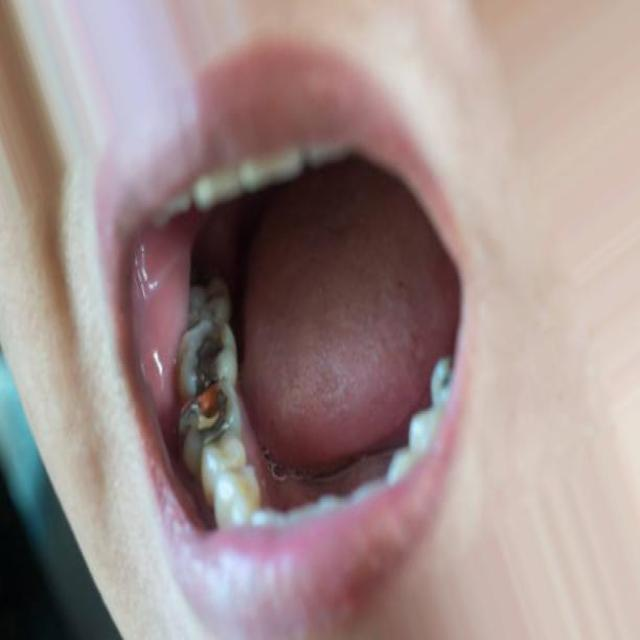caries: (175, 385, 244, 469), (176, 318, 232, 390)
